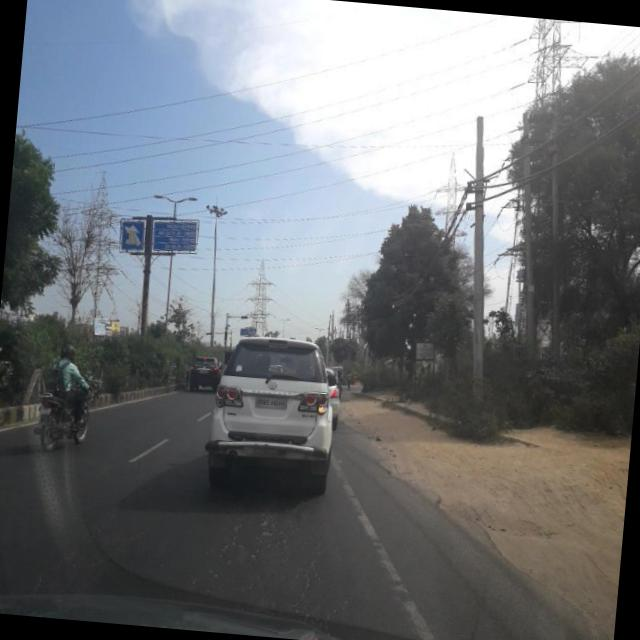crack: (164, 476, 348, 624)
